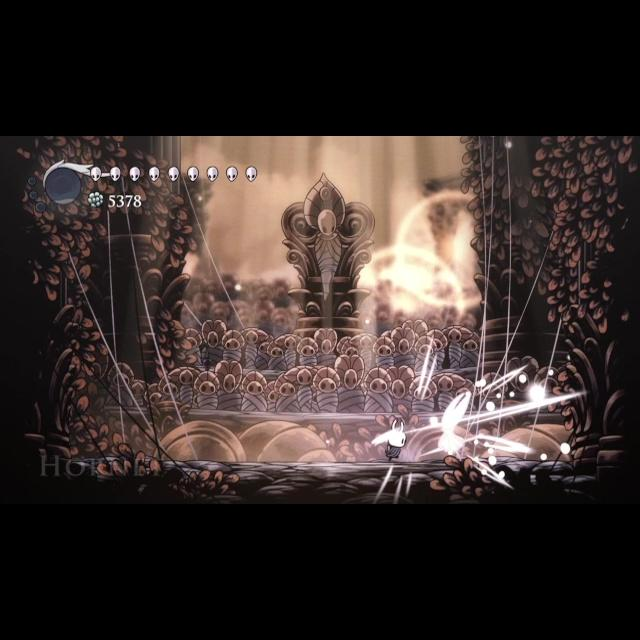EnemyDamaged: (424, 389, 480, 465)
Player: (384, 420, 411, 462)
